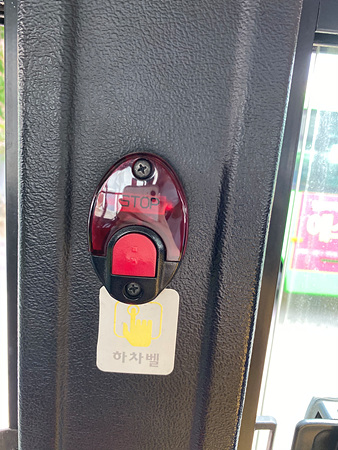bell: (89, 150, 188, 304)
